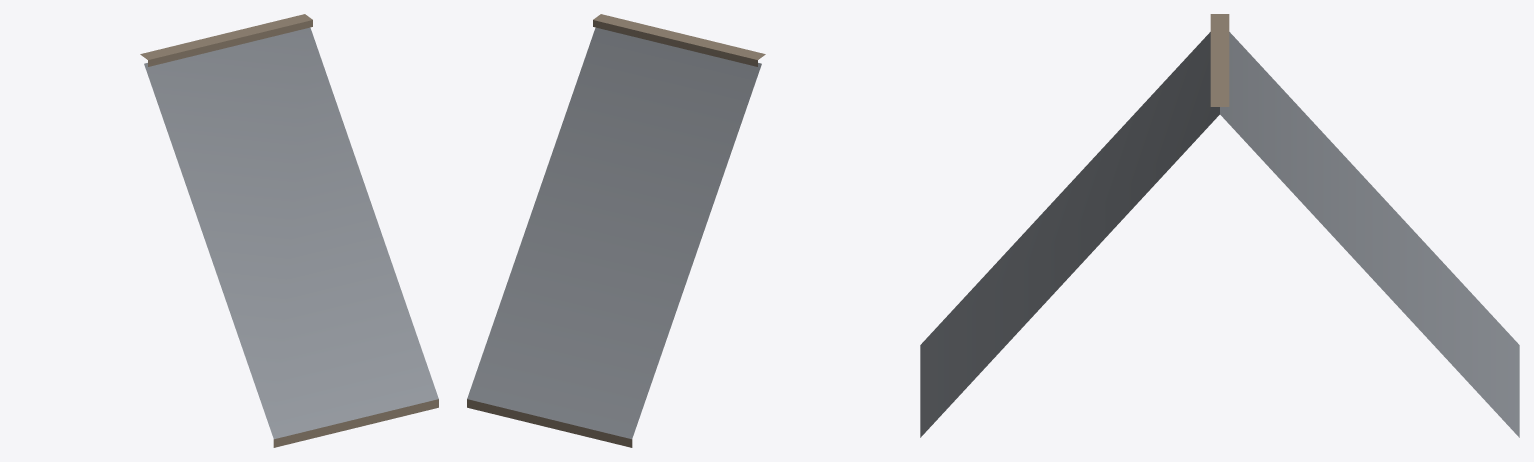
Rendered from sg_roof_ridge.glb.
3 views of the same model, side by side, from view 1: azimuth 30°, elevation 25°; view 2: azimuth 150°, elevation 25°; view 3: azimuth 270°, elevation 25° (orthographic). The views are drawn at different scales.
Parts seen in each view (by area): view 1: sg_roof_ridge_SG_Slate, sg_roof_ridge_SG_Joinery; view 2: sg_roof_ridge_SG_Slate, sg_roof_ridge_SG_Joinery; view 3: sg_roof_ridge_SG_Slate, sg_roof_ridge_SG_Joinery.
Boxes of the visible parts, left/top/right/bottom form: sg_roof_ridge_SG_Slate: left=144, top=27, right=438, bottom=439; sg_roof_ridge_SG_Joinery: left=140, top=14, right=438, bottom=447; sg_roof_ridge_SG_Slate: left=467, top=27, right=761, bottom=439; sg_roof_ridge_SG_Joinery: left=467, top=14, right=765, bottom=447; sg_roof_ridge_SG_Slate: left=920, top=32, right=1519, bottom=437; sg_roof_ridge_SG_Joinery: left=1210, top=14, right=1229, bottom=106.
Size of the model in its own units: 4 by 6.85 by 10.9.
